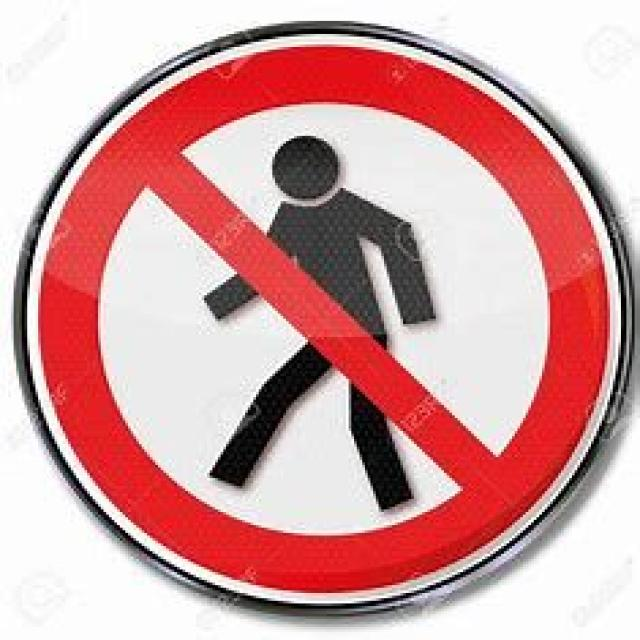Priority road: (8, 13, 632, 614)
